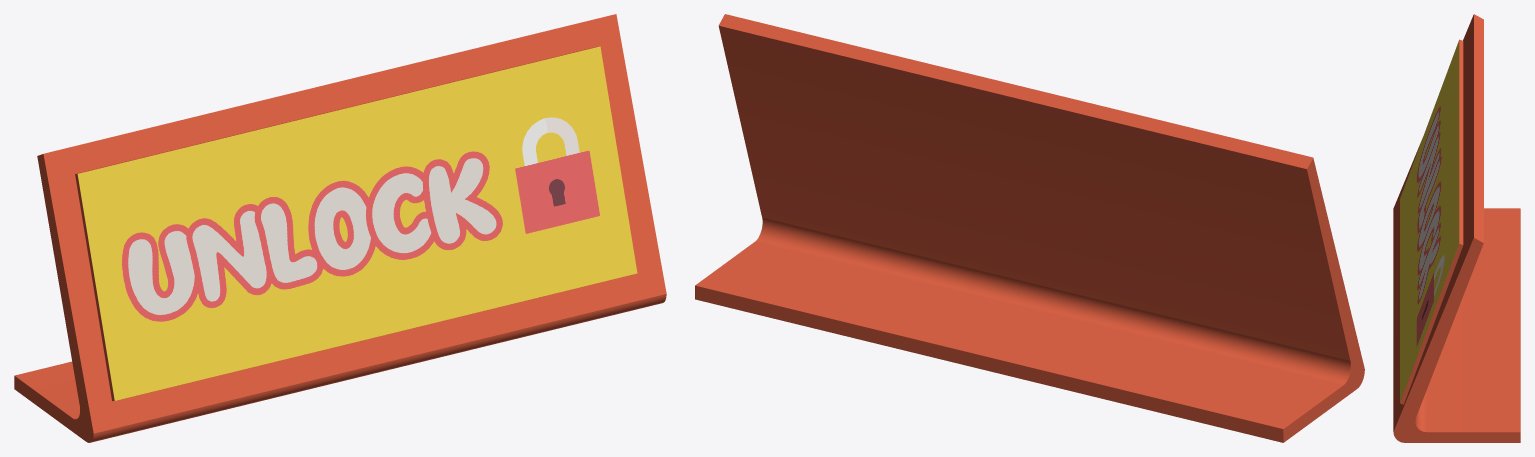
The model's file is unlock.fbx.
The picture shows the model from 3 angles, left to right: view 1: azimuth 30°, elevation 25°; view 2: azimuth 150°, elevation 25°; view 3: azimuth 270°, elevation 25°; orthographic projection. The views are drawn at different scales.
Parts seen in each view (by area): view 1: Reserved_Sign; view 2: Reserved_Sign; view 3: Reserved_Sign.
Part boxes in pixels (left/top/right/bottom): Reserved_Sign: left=14, top=14, right=666, bottom=442; Reserved_Sign: left=695, top=14, right=1364, bottom=442; Reserved_Sign: left=1393, top=14, right=1520, bottom=442.
Bounding box in the file's own units: 25 × 10.71 × 6.
Materials: 2 (1 with a texture image).
